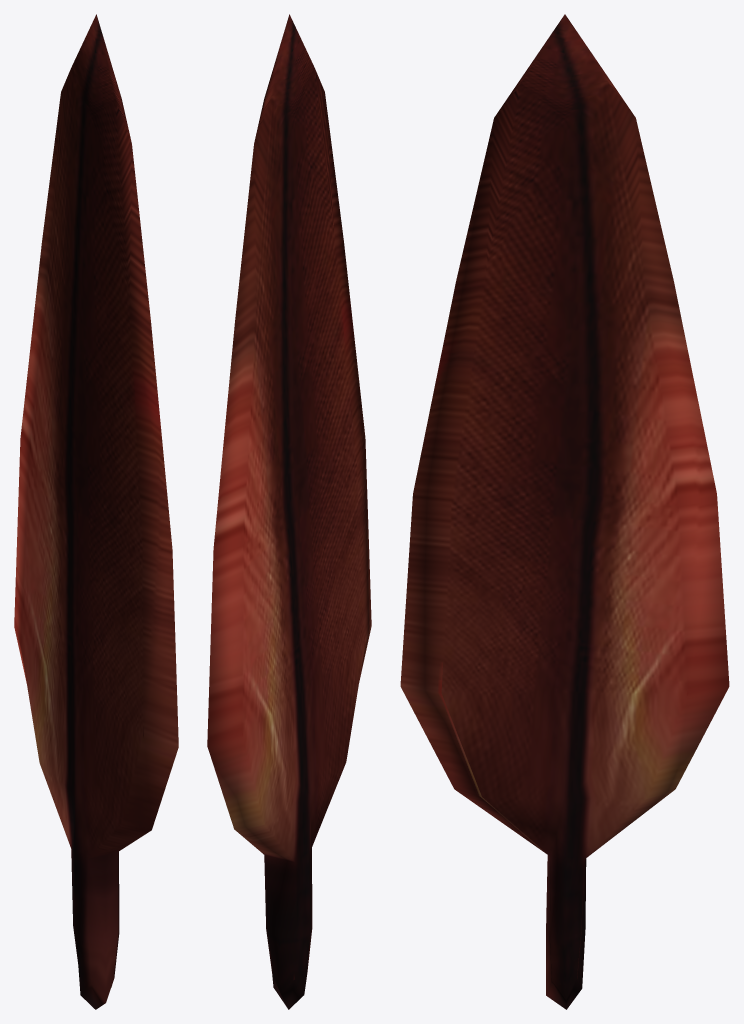
The model's file is Feather.fbx.
3 views of the same model, side by side, from view 1: azimuth 30°, elevation 25°; view 2: azimuth 150°, elevation 25°; view 3: azimuth 270°, elevation 25° (orthographic).
Visible parts, largest first — view 1: Feather; view 2: Feather; view 3: Feather.
Part boxes in pixels (x1,y1,x2,y2): Feather: (14, 14, 178, 1009); Feather: (207, 14, 371, 1009); Feather: (400, 14, 729, 1009).
Bounding box in the file's own units: 1 × 23.25 × 6.96.
Materials: 1 (1 with a texture image).
